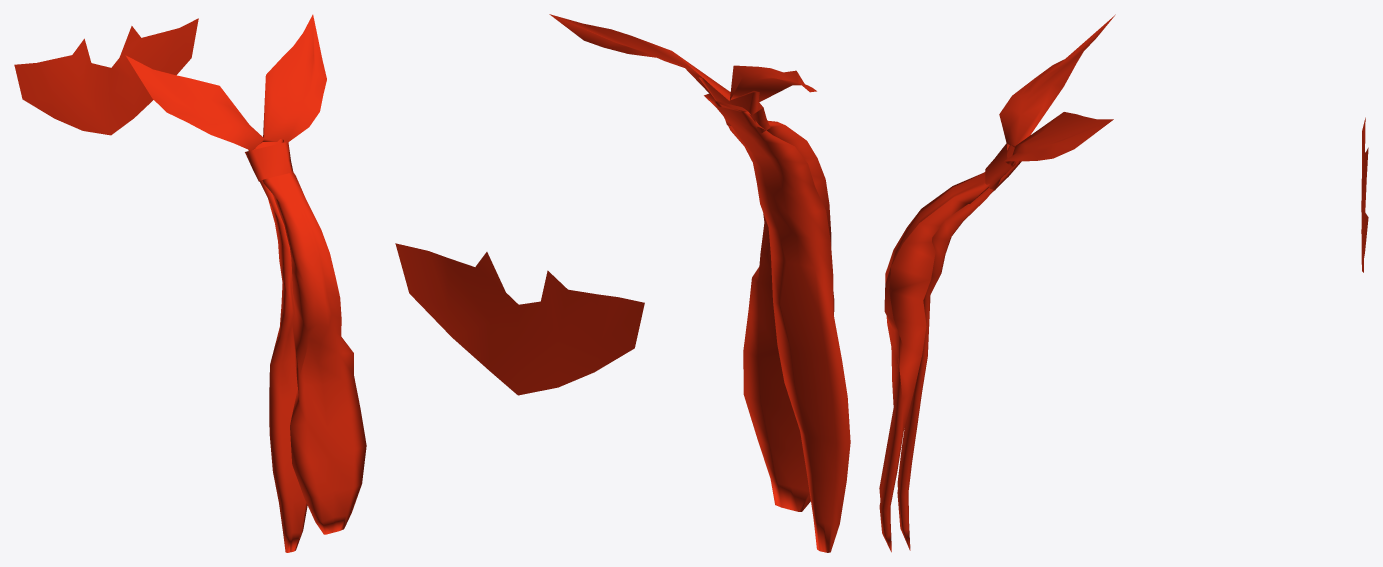
Rendered from StudentOutfit3Scarf.fbx.
3 views of the same model, side by side, from view 1: azimuth 30°, elevation 25°; view 2: azimuth 150°, elevation 25°; view 3: azimuth 270°, elevation 25° (orthographic). The views are drawn at different scales.
Parts seen in each view (by area): view 1: カスタム少女_mesh; view 2: カスタム少女_mesh; view 3: カスタム少女_mesh.
Boxes of the visible parts, bbox=[...] form: カスタム少女_mesh: bbox=[14, 14, 366, 552]; カスタム少女_mesh: bbox=[395, 14, 850, 552]; カスタム少女_mesh: bbox=[879, 14, 1368, 552].
Bounding box in the file's own units: 13.76 × 31.39 × 28.07.
